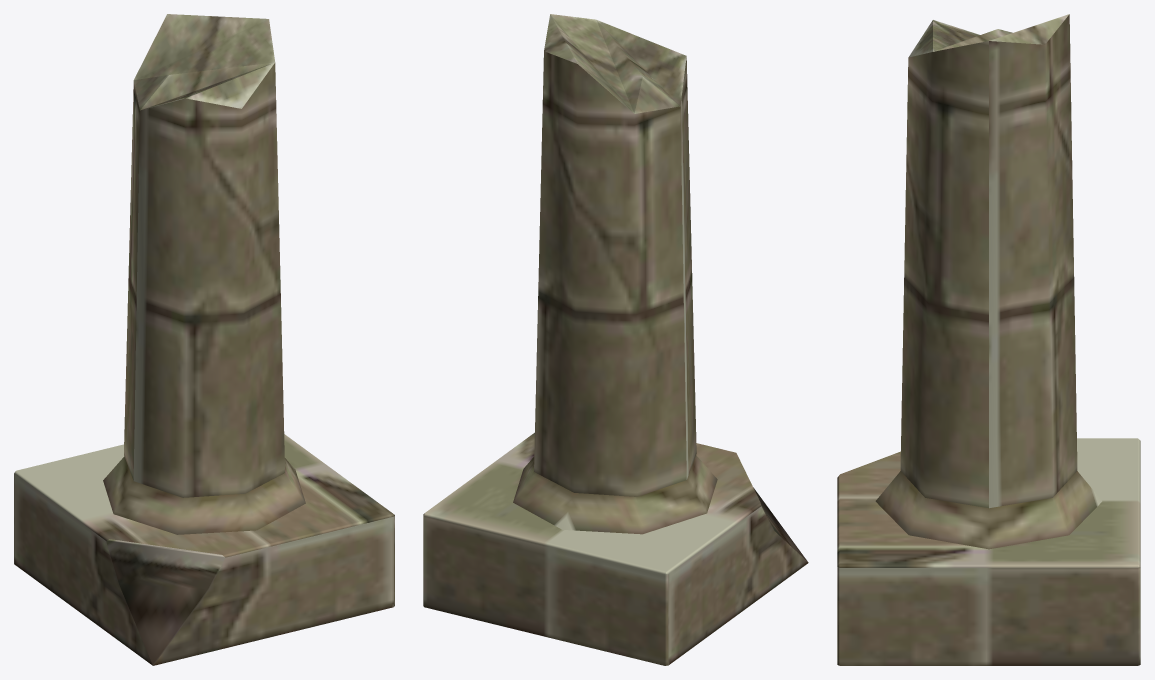
Rendered from int_oth_piller_d.dae.
3 views of the same model, side by side, from view 1: azimuth 30°, elevation 25°; view 2: azimuth 150°, elevation 25°; view 3: azimuth 270°, elevation 25° (orthographic). The views are drawn at different scales.
Parts seen in each view (by area): view 1: int_oth_piller_d; view 2: int_oth_piller_d; view 3: int_oth_piller_d.
Part boxes in pixels (left/top/right/bottom): int_oth_piller_d: left=14, top=14, right=394, bottom=665; int_oth_piller_d: left=423, top=14, right=808, bottom=665; int_oth_piller_d: left=837, top=14, right=1140, bottom=665.
Size of the model in its own units: 27.1 by 58.6 by 27.1.
1 material, 1 textured.
